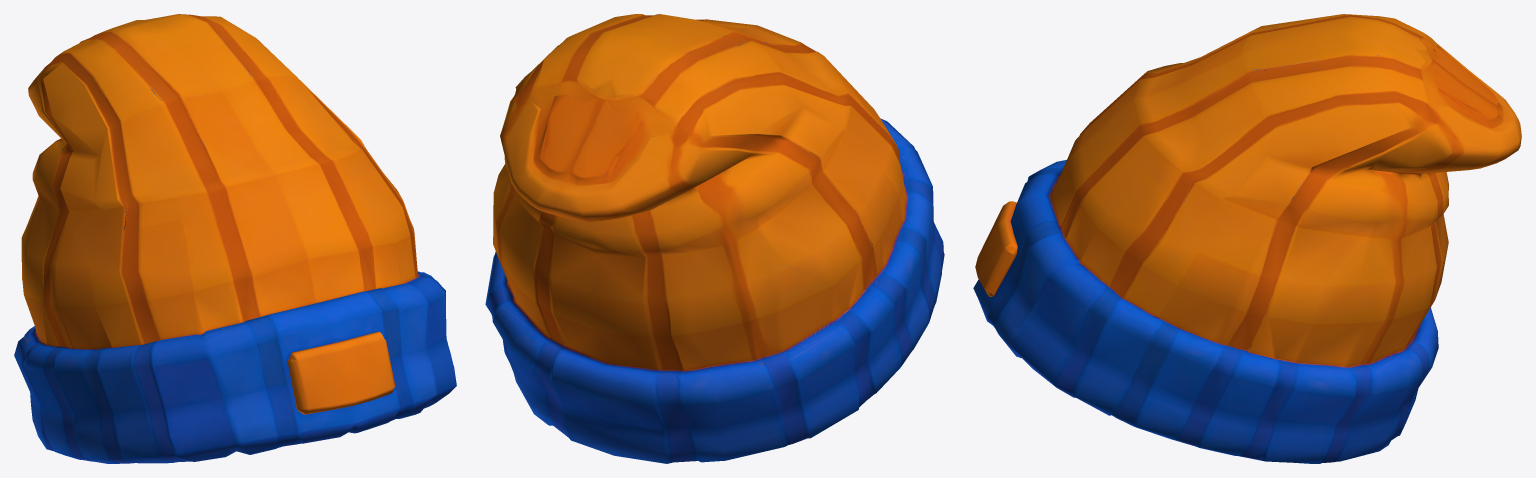
File: classic_beanie.glb
3 views of the same model, side by side, from view 1: azimuth 30°, elevation 25°; view 2: azimuth 150°, elevation 25°; view 3: azimuth 270°, elevation 25° (orthographic). The views are drawn at different scales.
Parts seen in each view (by area): view 1: geometry_0; view 2: geometry_0; view 3: geometry_0.
Boxes of the visible parts, left/top/right/bottom form: geometry_0: left=14, top=14, right=456, bottom=463; geometry_0: left=485, top=14, right=944, bottom=463; geometry_0: left=973, top=14, right=1521, bottom=463.
Size of the model in its own units: 0.7378 by 0.7388 by 0.9551.
1 material, 1 textured.
